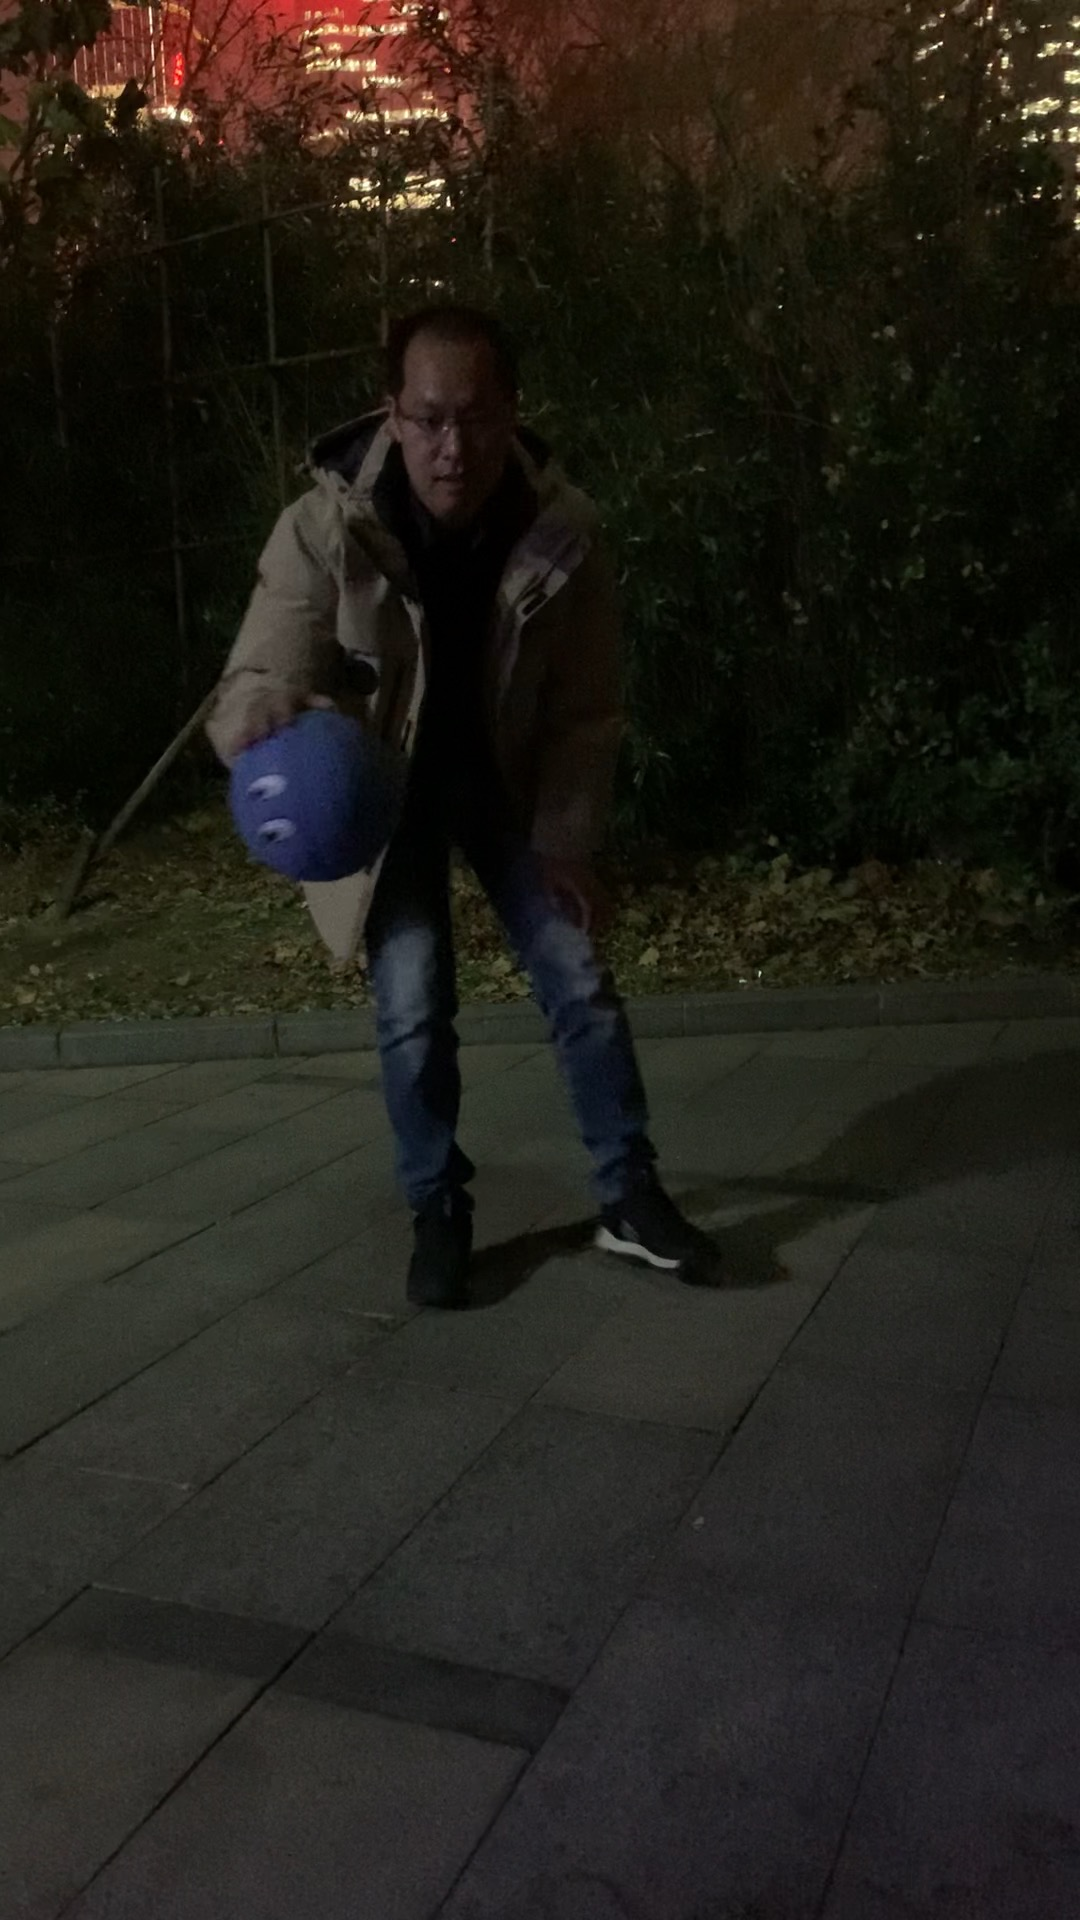ball: (224, 709, 404, 882)
